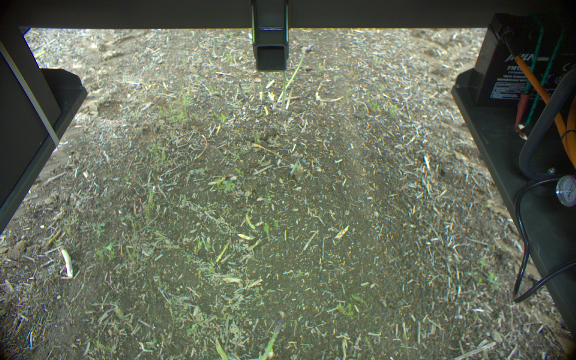aspa: (276, 48, 311, 100), (252, 317, 283, 360), (279, 70, 291, 109), (210, 338, 227, 360)
